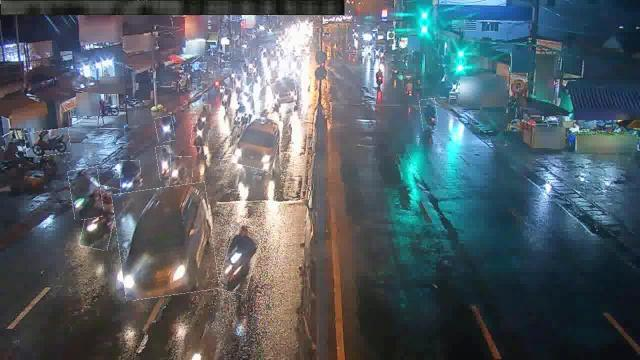Bike: (222, 224, 258, 294), (82, 185, 118, 250), (70, 168, 102, 220), (26, 130, 70, 156), (170, 156, 193, 188), (120, 160, 140, 194), (420, 99, 438, 131), (156, 146, 172, 180), (191, 122, 209, 148), (156, 117, 174, 143), (232, 104, 248, 126), (197, 106, 211, 130), (222, 88, 236, 108), (234, 74, 242, 96), (244, 78, 252, 96)
Car: (116, 184, 217, 298), (233, 114, 281, 170), (271, 76, 297, 108)
